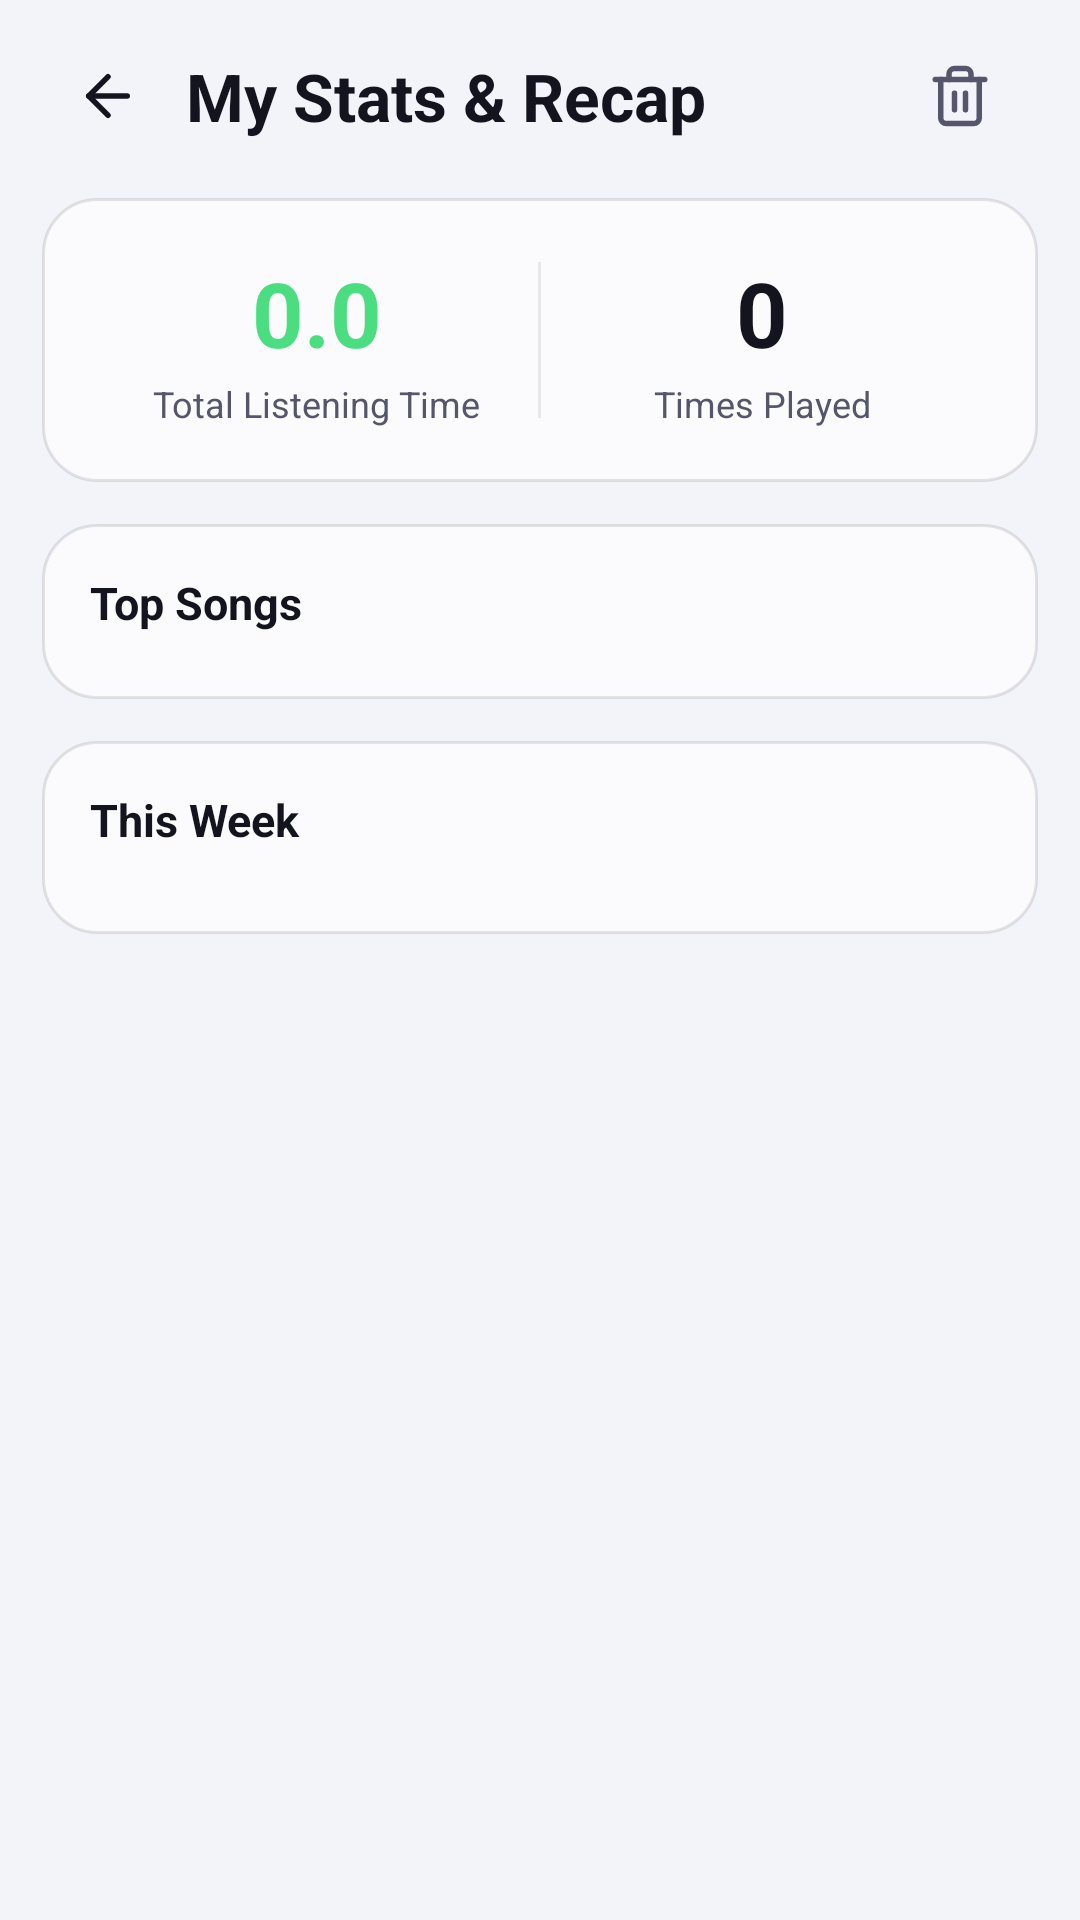

Icons on this 1080*1920 Android screen, each with its box as (x1=x1, y1=y1, x2=x2, y2=y2):
arrow back: (x1=86, y1=74, x2=130, y2=118)
delete: (x1=932, y1=65, x2=988, y2=127)
